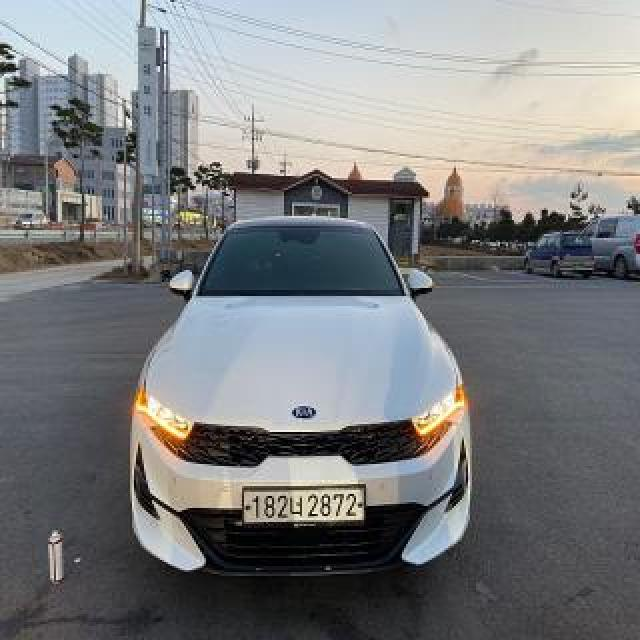car: (114, 202, 488, 599)
illegal_plate: (240, 485, 366, 528)
